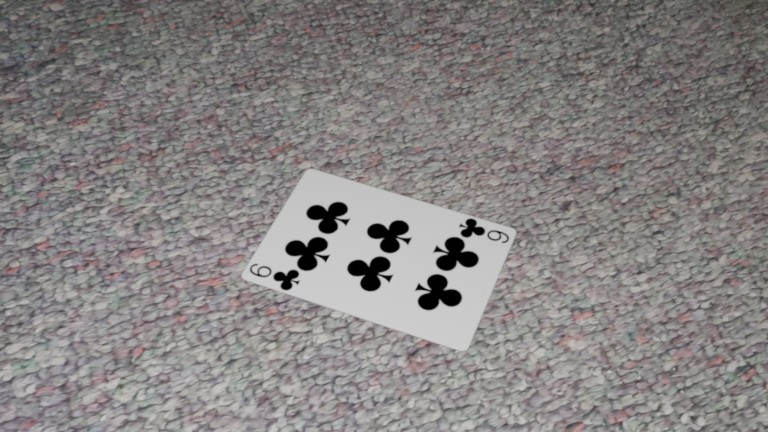6_of_clubs: (98, 102, 123, 118), (182, 86, 206, 100)
